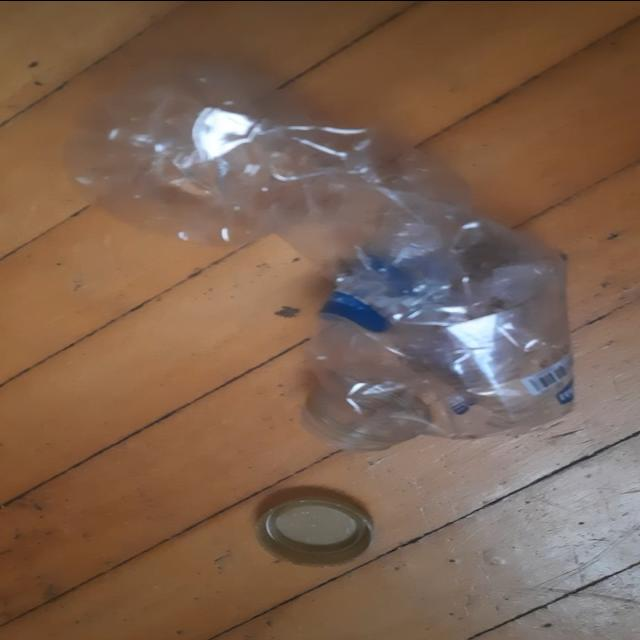Plastic: (64, 74, 579, 450), (256, 485, 375, 566)
